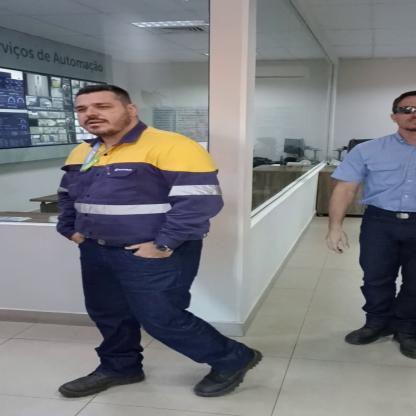Operacional: (56, 136, 233, 250)
